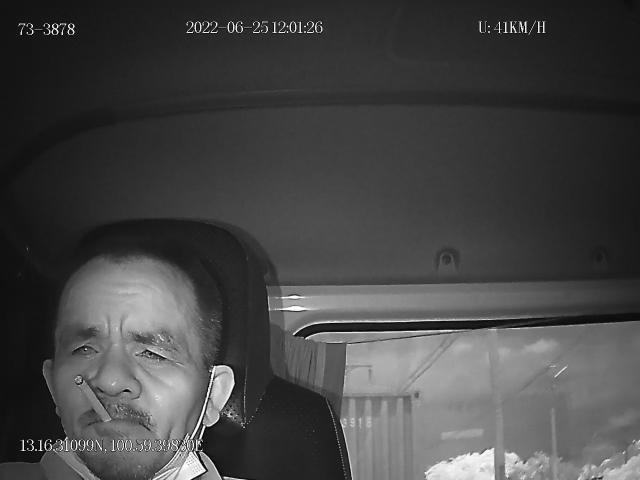SafeDriving: (128, 334, 180, 370), (65, 330, 108, 364)
Smoking: (72, 374, 111, 424)
